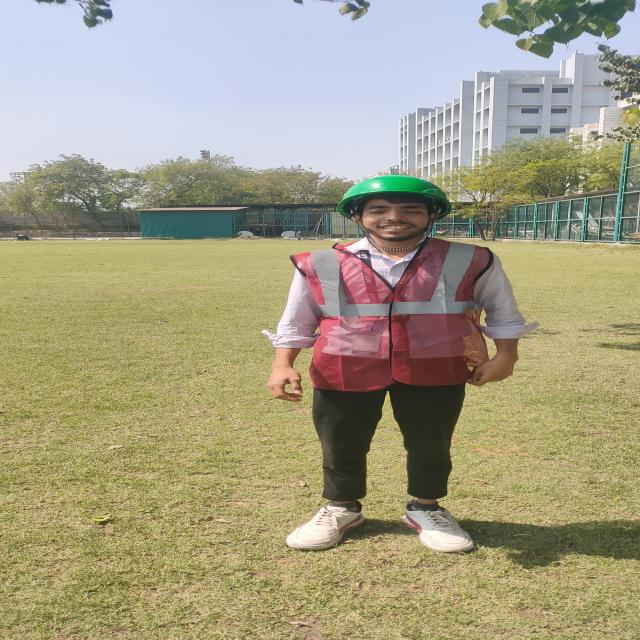safe: (267, 175, 518, 552)
